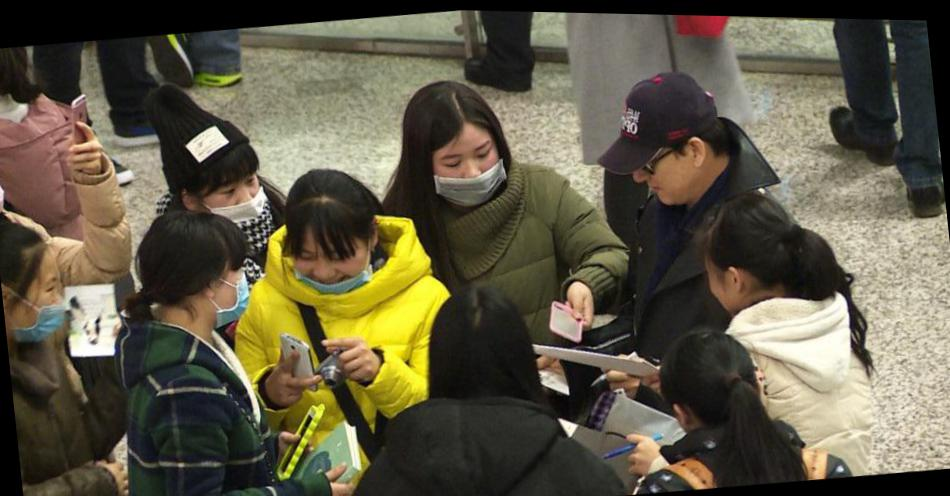NONE: (625, 136, 698, 210)
OK: (196, 267, 254, 335)
WRONG: (432, 130, 507, 206), (297, 226, 372, 302), (2, 270, 69, 350), (200, 163, 266, 231)
